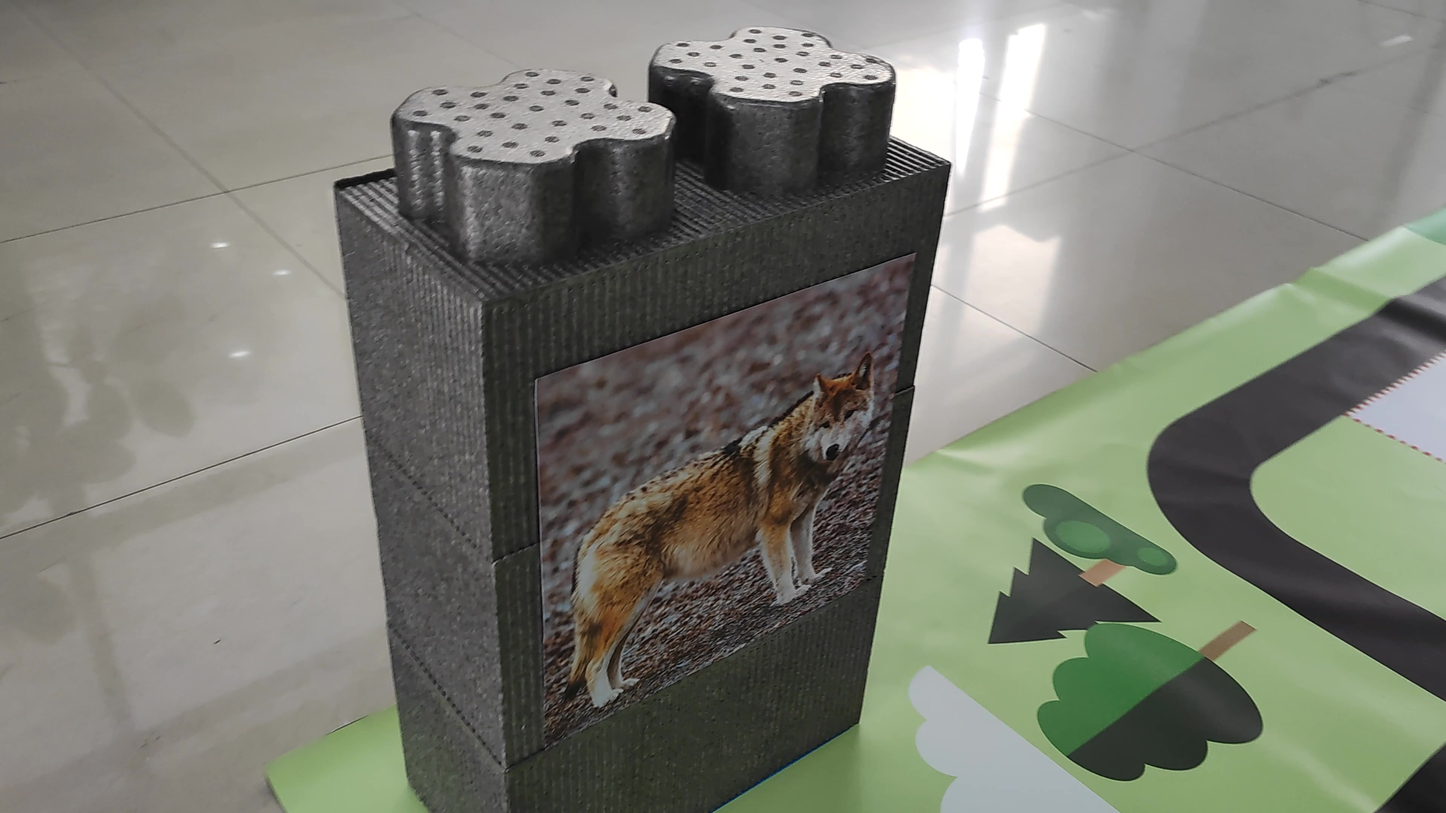wolf: (535, 357, 886, 720)
